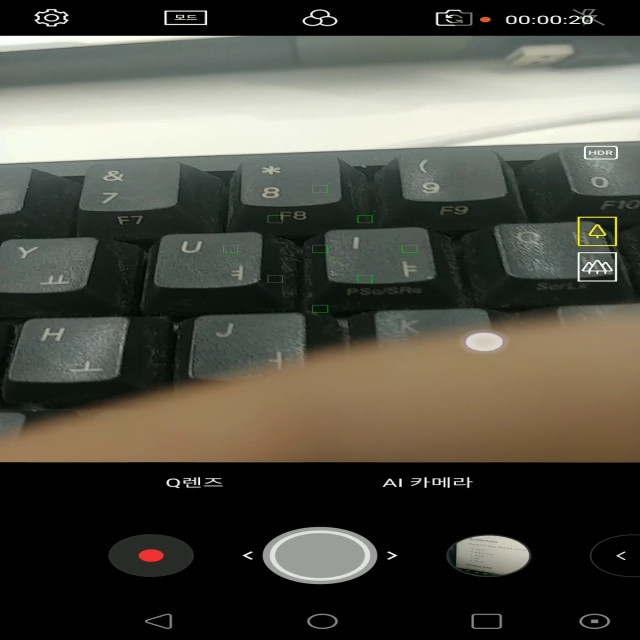Cursor: (463, 332, 507, 354)
